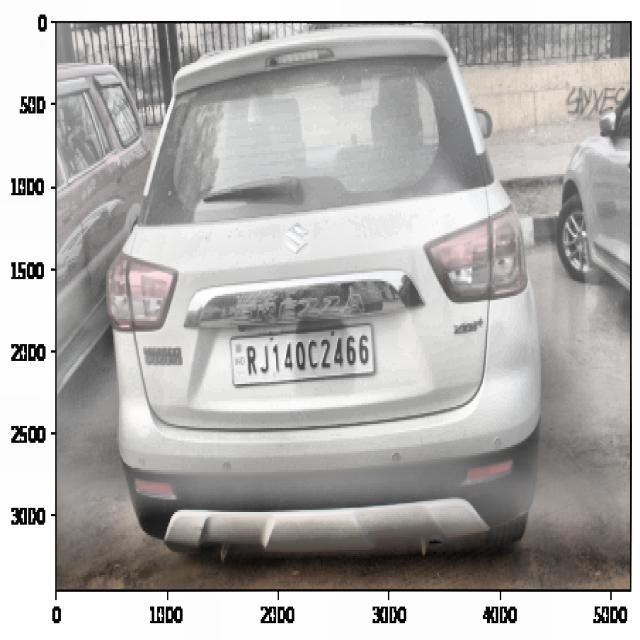license_plate: (239, 332, 374, 385)
